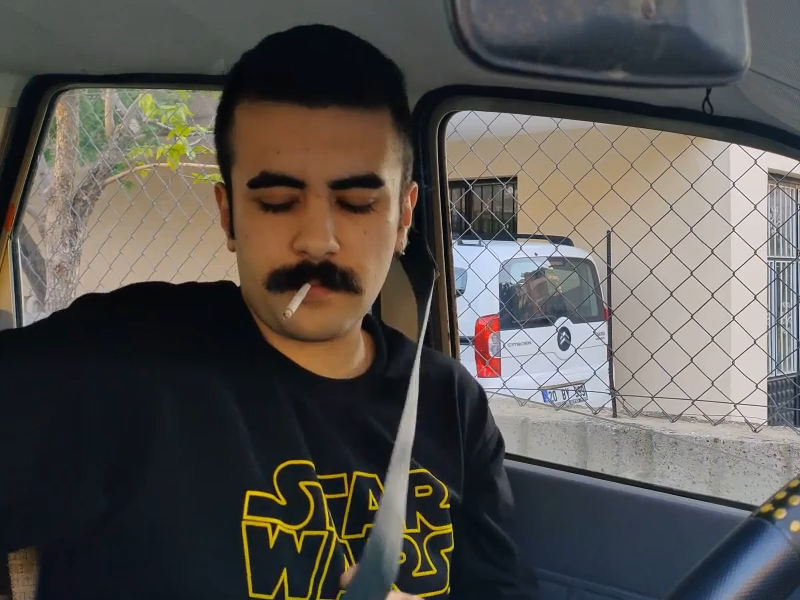sigara: (277, 279, 315, 322)
